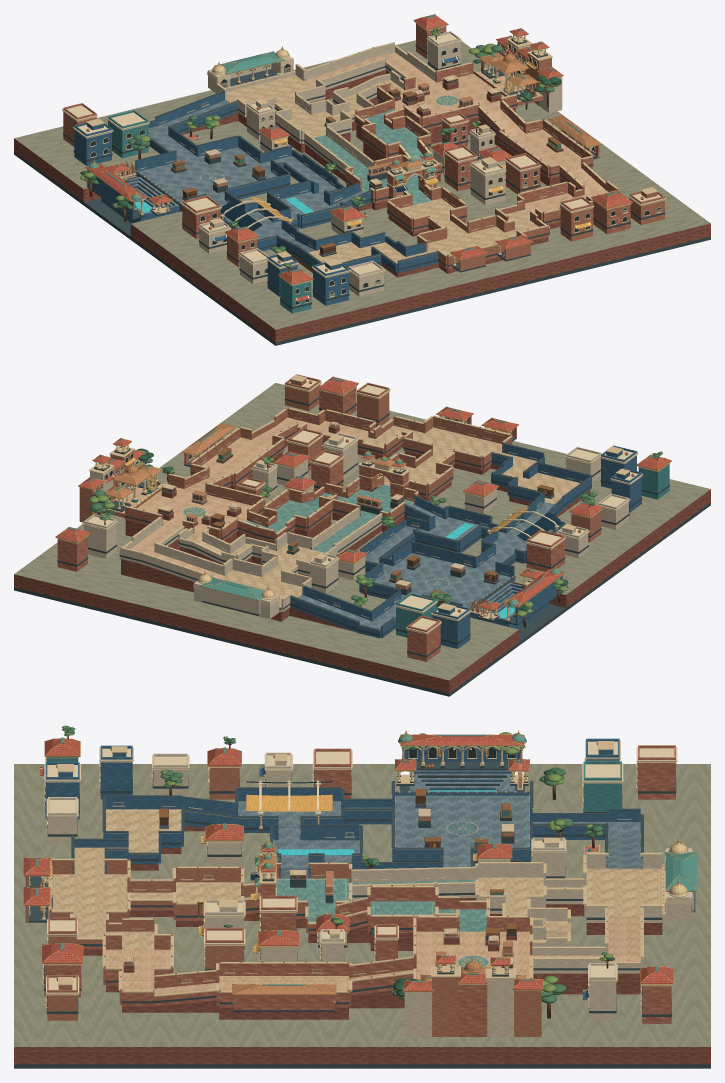
File: monsoon-exchange.glb
The picture shows the model from 3 angles, top to bottom: view 1: azimuth 30°, elevation 25°; view 2: azimuth 150°, elevation 25°; view 3: azimuth 270°, elevation 25°; orthographic projection. The views are drawn at different scales.
Parts seen in each view (by area): view 1: Terrain · cutaway and stepped basin excavation, Sun Court · copper sabha, galleries and celestial wheel, Indigo Cistern · five stepped terraces and water gallery, Floor.b-floor, Archive Court · pale registry and two cupolas, Floor.a-floor, Block.10.00 · occupied roofline, Weavers’ Gate · sandstone loggia and jali oriels, Block.00.01 · occupied roofline, Block.03.07 · occupied roofline, Floor.def-floor, Block.00.09 · occupied roofline (+43 smaller); view 2: Terrain · cutaway and stepped basin excavation, Sun Court · copper sabha, galleries and celestial wheel, Indigo Cistern · five stepped terraces and water gallery, Floor.b-floor, Archive Court · pale registry and two cupolas, Floor.a-floor, Weavers’ Gate · sandstone loggia and jali oriels, Floor.atk-floor, Block.05.00 · occupied roofline, Block.10.00 · occupied roofline, Block.11.00 · occupied roofline, Floor.copper-floor (+48 smaller); view 3: Terrain · cutaway and stepped basin excavation, Sun Court · copper sabha, galleries and celestial wheel, Indigo Cistern · five stepped terraces and water gallery, Floor.b-floor, Floor.def-floor, Floor.atk-floor, Floor.a-floor, Copper Arcade · ridge of hammered market bays, Archive Court · pale registry and two cupolas, Block.11.00 · occupied roofline, Block.10.01 · occupied roofline, Floor.sail-floor (+73 smaller).
Boxes of the visible parts, box(x1,y1,x2,y2) form: Terrain · cutaway and stepped basin excavation: box(14, 40, 710, 345); Sun Court · copper sabha, galleries and celestial wheel: box(478, 28, 563, 113); Indigo Cistern · five stepped terraces and water gallery: box(80, 160, 179, 223); Floor.b-floor: box(138, 147, 277, 202); Archive Court · pale registry and two cupolas: box(207, 46, 293, 93); Floor.a-floor: box(395, 73, 504, 116); Block.10.00 · occupied roofline: box(72, 118, 113, 165); Weavers’ Gate · sandstone loggia and jali oriels: box(386, 151, 439, 198); Block.00.01 · occupied roofline: box(311, 258, 350, 305); Block.03.07 · occupied roofline: box(469, 157, 506, 205); Floor.def-floor: box(226, 75, 312, 106); Block.00.09 · occupied roofline: box(591, 190, 632, 234); Terrain · cutaway and stepped basin excavation: box(14, 383, 710, 696); Sun Court · copper sabha, galleries and celestial wheel: box(78, 438, 162, 522); Indigo Cistern · five stepped terraces and water gallery: box(470, 566, 568, 629); Floor.b-floor: box(373, 553, 511, 607); Archive Court · pale registry and two cupolas: box(193, 570, 279, 618); Floor.a-floor: box(137, 487, 251, 534); Weavers’ Gate · sandstone loggia and jali oriels: box(358, 450, 411, 498); Floor.atk-floor: box(416, 427, 501, 457); Block.05.00 · occupied roofline: box(525, 530, 566, 571); Block.10.00 · occupied roofline: box(431, 602, 471, 648); Block.11.00 · occupied roofline: box(406, 615, 441, 661); Floor.copper-floor: box(202, 437, 272, 478); Terrain · cutaway and stepped basin excavation: box(14, 764, 710, 1068); Sun Court · copper sabha, galleries and celestial wheel: box(392, 954, 556, 1036); Indigo Cistern · five stepped terraces and water gallery: box(394, 730, 529, 791); Floor.b-floor: box(395, 795, 529, 861); Floor.def-floor: box(586, 868, 662, 918); Floor.atk-floor: box(51, 874, 127, 924); Floor.a-floor: box(416, 931, 529, 980); Copper Arcade · ridge of hammered market bays: box(232, 984, 336, 1011); Archive Court · pale registry and two cupolas: box(664, 838, 697, 920); Block.11.00 · occupied roofline: box(636, 745, 677, 799); Block.10.01 · occupied roofline: box(582, 761, 623, 812); Floor.sail-floor: box(106, 809, 181, 843).
Size of the model in its own units: 127 by 22.41 by 129.
Materials: 91 (18 with a texture image).
